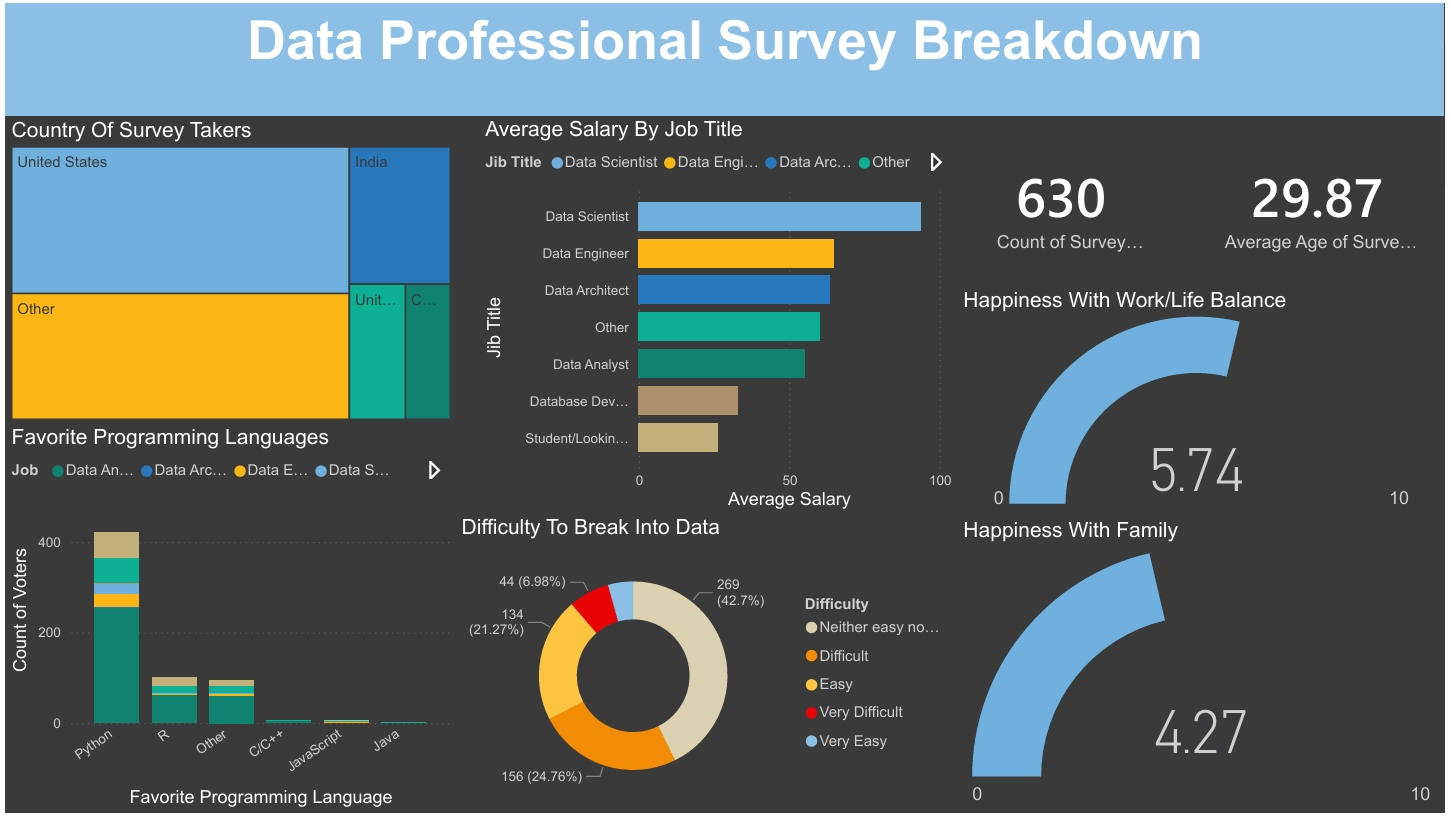

Layout of this report page (visuals, bound fields, positions):
{"tool":"powerbi","page":{"name":"Page 1","canvas":[1280,720],"ordinal":0},"visuals":[{"type":"textbox","box":[0,0,1279.5,100],"z":0},{"type":"cardVisual","fields":{"Data":["Count(Data Professional Survey.Unique ID)"]},"box":[827.3,101,220.2,154.3],"z":1000},{"type":"cardVisual","fields":{"Data":["Avg(Data Professional Survey.Q10 - Current Age)"]},"box":[1047.5,99.6,232.8,155.7],"z":2000},{"type":"barChart","title":"Average Salary By Job Title","fields":{"Category":["Data Professional Survey.Q1 - Which Title Best Fits your Current Role?.1"],"Y":["Avg(Data Professional Survey.Average Salary)"],"Series":["Data Professional Survey.Q1 - Which Title Best Fits your Current Role?.1"]},"box":[420.7,99.6,424.9,354.8],"z":3000},{"type":"columnChart","title":"Favorite Programming Languages","fields":{"Category":["Data Professional Survey.Q5 - Favorite Programming Language.1"],"Y":["CountNonNull(Data Professional Survey.Unique ID)"],"Series":["Data Professional Survey.Q1 - Which Title Best Fits your Current Role?.1"]},"box":[0,374.4,399.7,345],"z":4000},{"type":"treemap","title":"Country Of Survey Takers","fields":{"Group":["Data Professional Survey.Q11 - Which Country do you live in?.1"],"Values":["CountNonNull(Data Professional Survey.Q11 - Which Country do you live in?.1)"]},"box":[0,101,399.7,273.4],"z":5000},{"type":"gauge","title":"Happiness With Work/Life Balance","fields":{"Y":["Avg(Data Professional Survey.Q6 - How Happy are you in your Current Position with the following? (Work/Life Balance))"],"MinValue":["Min(Data Professional Survey.Q6 - How Happy are you in your Current Position with the following? (Work/Life Balance))1"],"MaxValue":["Max(Data Professional Survey.Q6 - How Happy are you in your Current Position with the following? (Work/Life Balance))2"]},"box":[845.6,252.4,433.3,201.9],"z":6000},{"type":"gauge","title":"Happiness With Family","fields":{"Y":["Avg(Data Professional Survey.Q6 - How Happy are you in your Current Position with the following? (Salary))"],"MinValue":["Min(Data Professional Survey.Q6 - How Happy are you in your Current Position with the following? (Salary))"],"MaxValue":["Max(Data Professional Survey.Q6 - How Happy are you in your Current Position with the following? (Salary))"]},"box":[845.6,457.1,433.3,262.2],"z":7000},{"type":"donutChart","title":"Difficulty To Break Into Data","fields":{"Category":["Data Professional Survey.Q7 - How difficult was it for you to break into Data?"],"Y":["CountNonNull(Data Professional Survey.Q7 - How difficult was it for you to break into Data?)"]},"box":[399.7,454.3,445.9,265],"z":8000}]}

Visuals, with their boxes in screenshot pixels (x1, y1, x2, y2), scaled from the page's 1280x720 canvas onto the 1451x817 screenshot:
textbox: box=[0, 0, 1450, 113]
cardVisual - Count(Data Professional Survey.Unique ID): box=[938, 115, 1187, 290]
cardVisual - Avg(Data Professional Survey.Q10 - Current Age): box=[1187, 113, 1450, 290]
"Average Salary By Job Title" barChart: box=[477, 113, 959, 516]
"Favorite Programming Languages" columnChart: box=[0, 425, 453, 816]
"Country Of Survey Takers" treemap: box=[0, 115, 453, 425]
"Happiness With Work/Life Balance" gauge: box=[959, 286, 1450, 516]
"Happiness With Family" gauge: box=[959, 519, 1450, 816]
"Difficulty To Break Into Data" donutChart: box=[453, 516, 959, 816]
